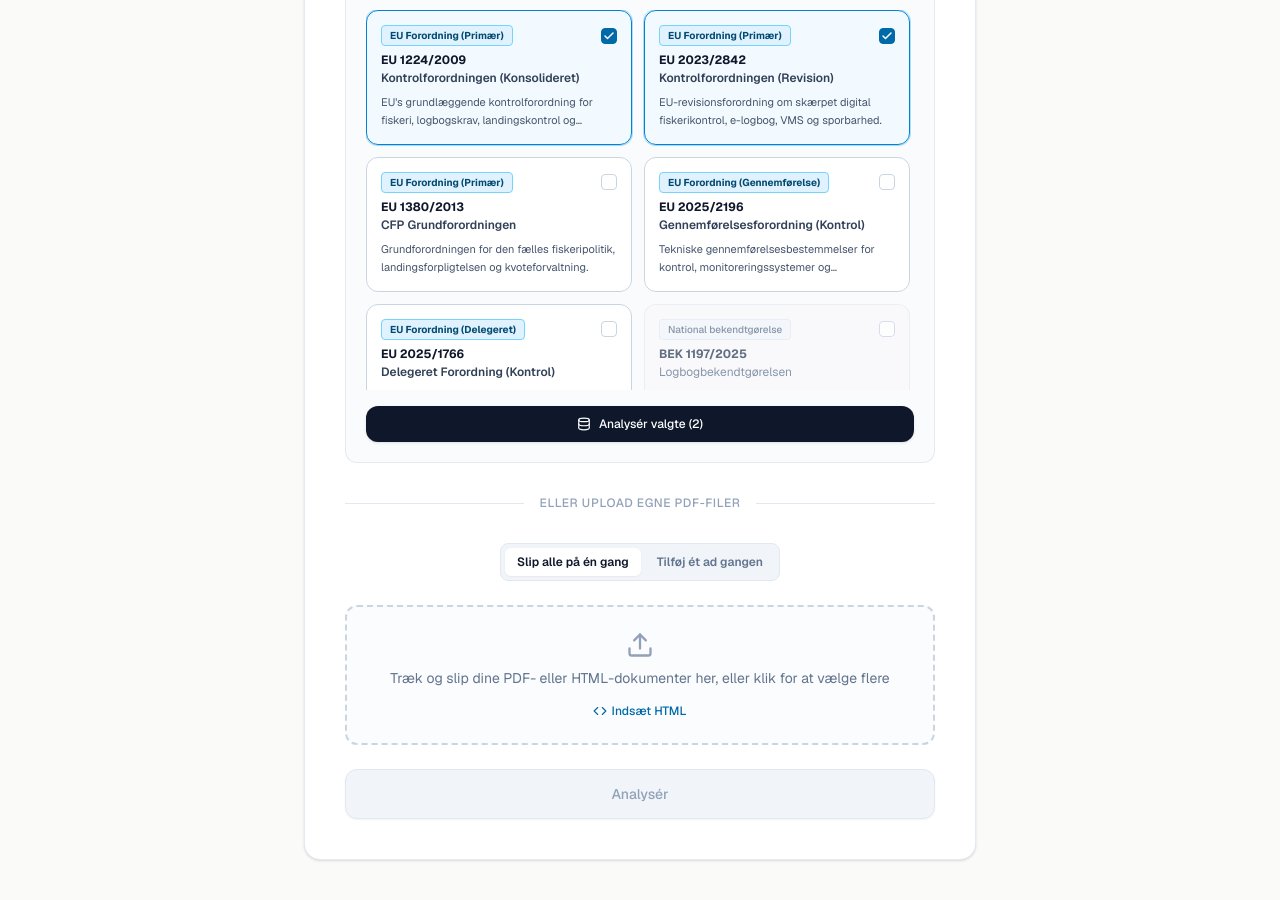
it: UploadScreen mode toggle and individual mode › opens HTML injection modal and adds injected HTML document to slots
(page scrolled)
Note: Click "Indsæt HTML" button
Click the button "Indsæt HTML" at (640, 711), box [594,703,686,719]
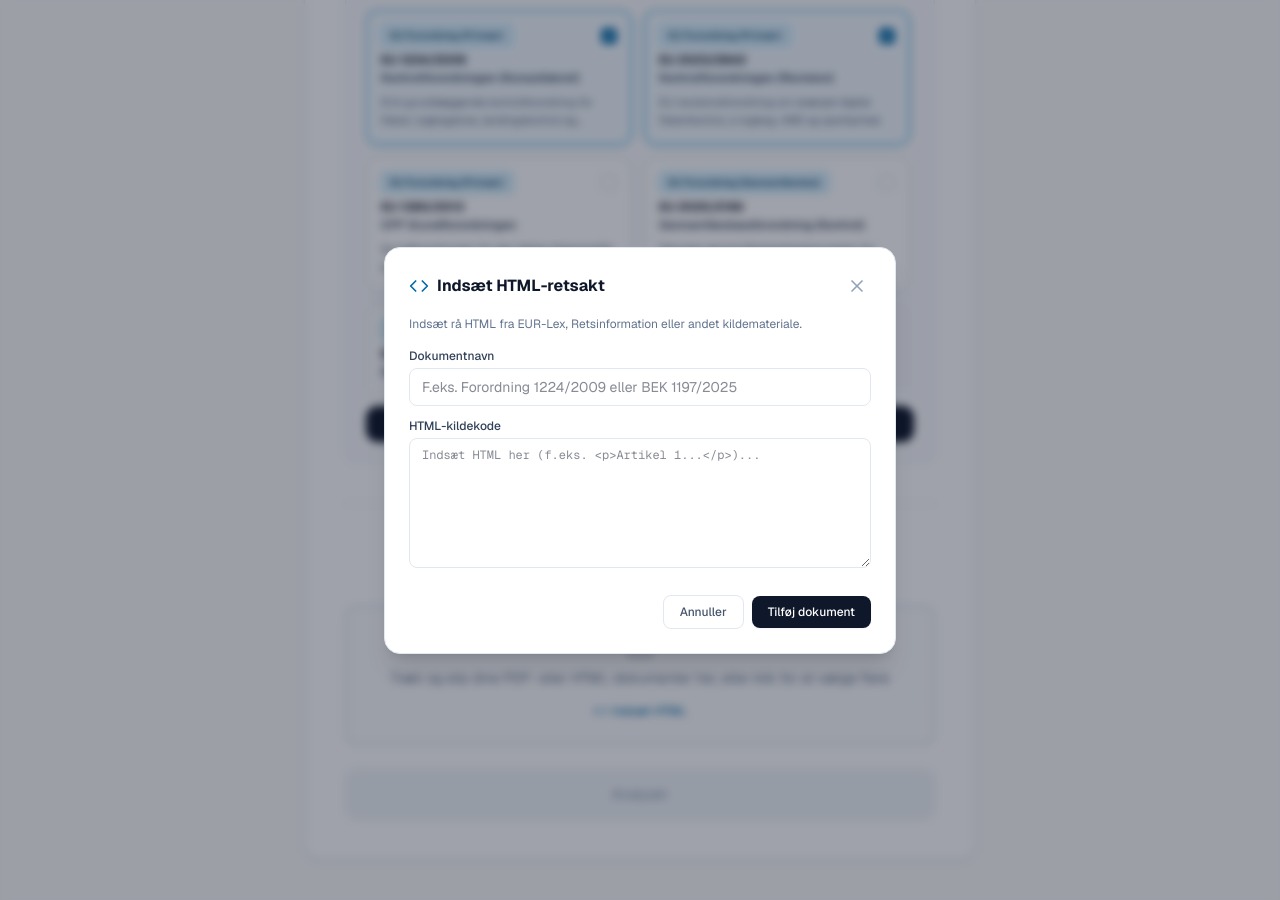
Check: the heading "Indsæt HTML-retsakt" is shown, box [437,274,605,298]
Type "EUR-Lex 2023/2842" into the field with placeholder "F.eks. Forordning 1224/2009 eller BEK 1197/2025" at (640, 386), box [409,368,871,406]
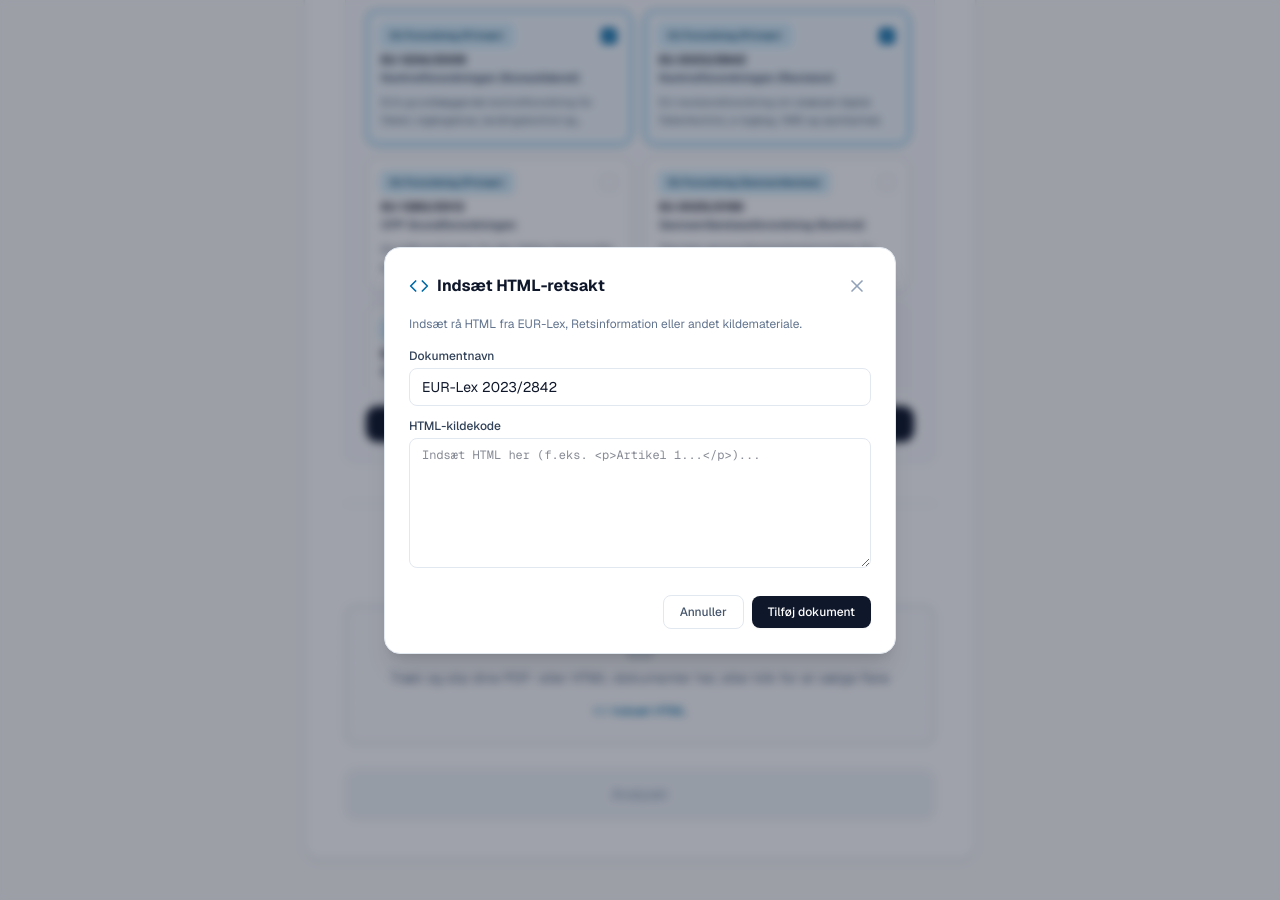
Type "<html><body><p><strong>Artikel 1</strong></p><p>Krav</p></body></html>" into the text box with placeholder "Indsæt HTML her (f.eks. <p>Artikel 1...</p>)..." at (640, 502), box [409,438,871,568]
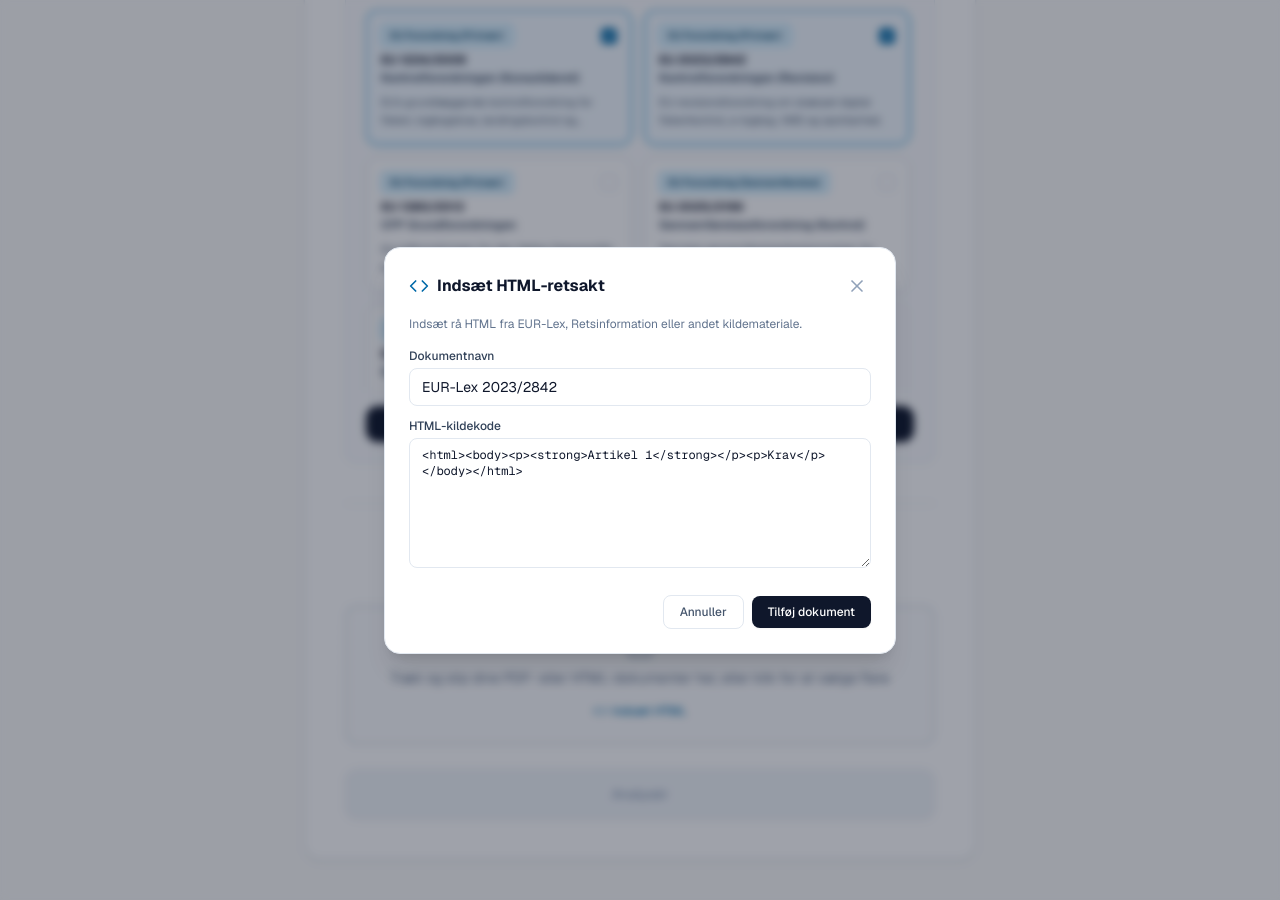
Click the button "Tilføj dokument" at (811, 612), box [752,596,871,628]
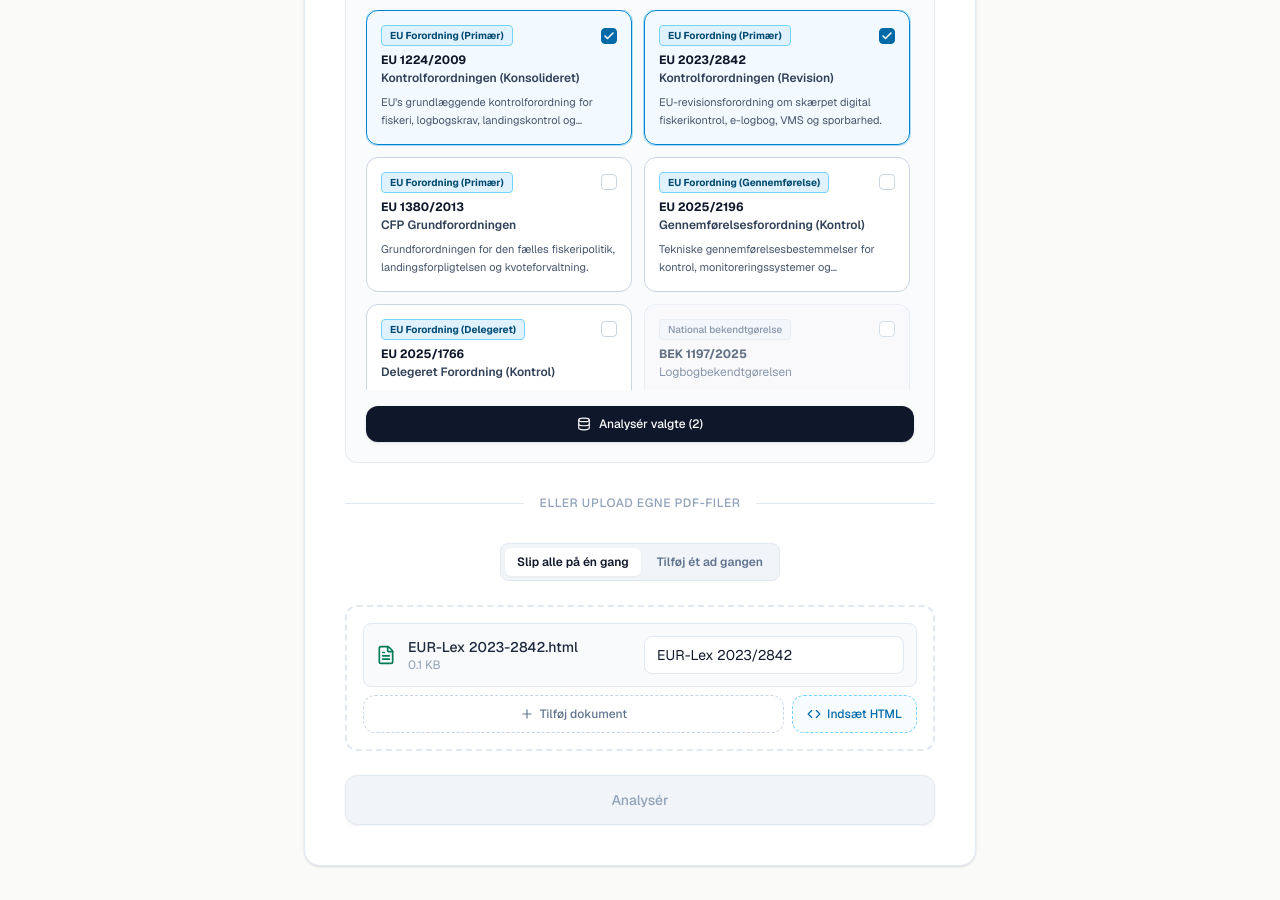
Check: the heading "Indsæt HTML-retsakt" is gone
Check: the field showing "EUR-Lex 2023/2842" is shown, box [644,636,904,674]
